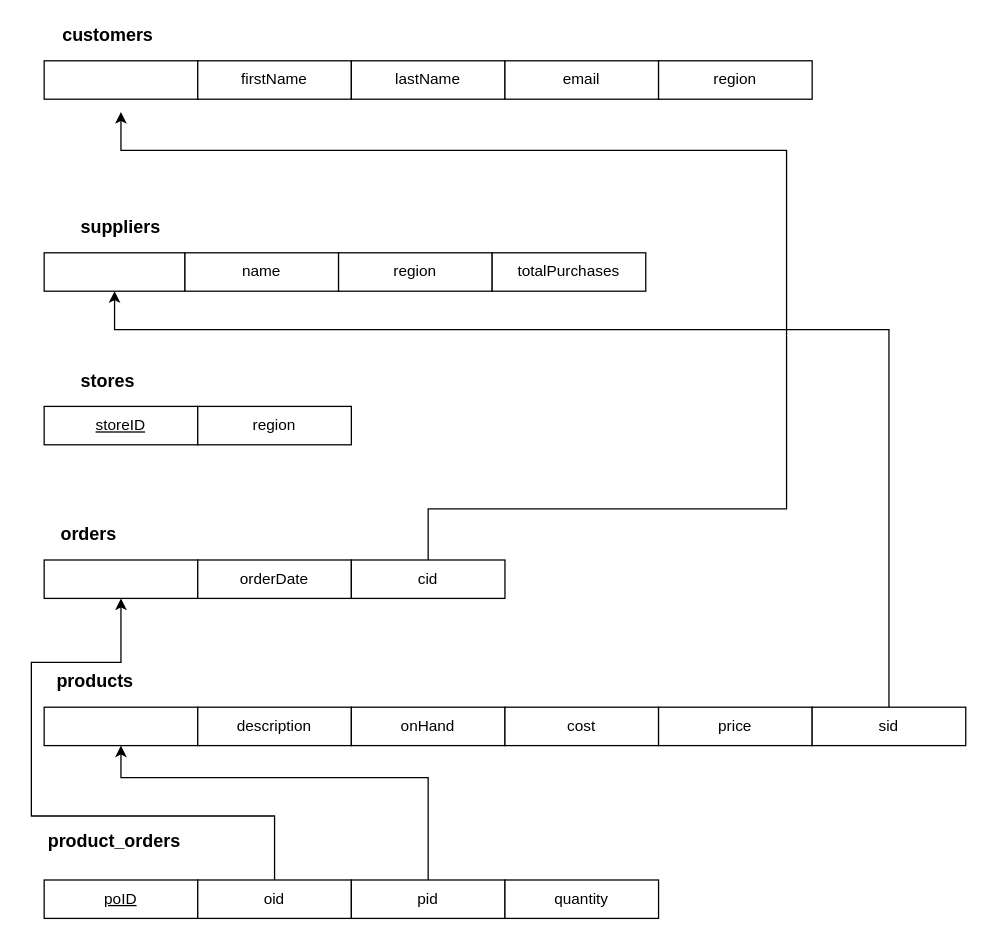
This 988x941 diagram has some shape labels left out. Here are the shapes that lost their labels. From the top down, the centre of each, then its label:
pixel 120 79: customerID
pixel 114 271: supplierID
pixel 120 578: orderID
pixel 120 726: upc
